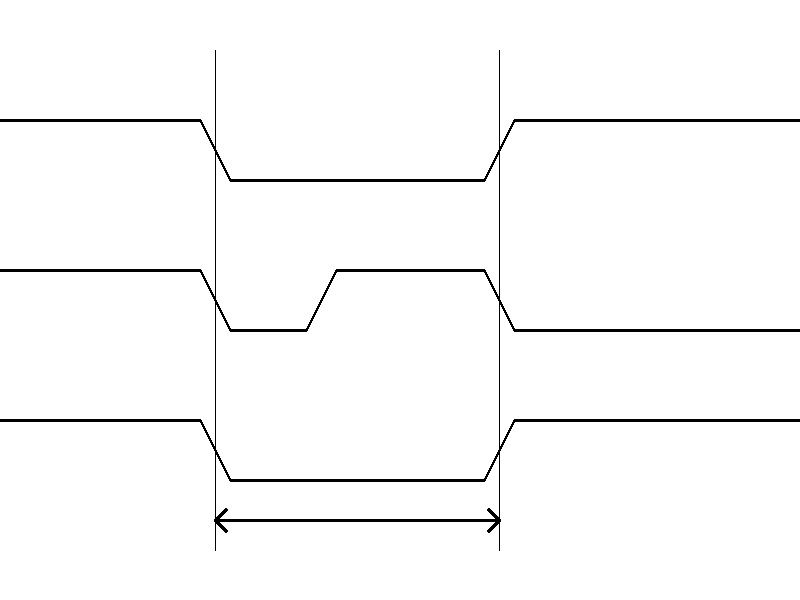double_arrow: (215, 505, 499, 535)
